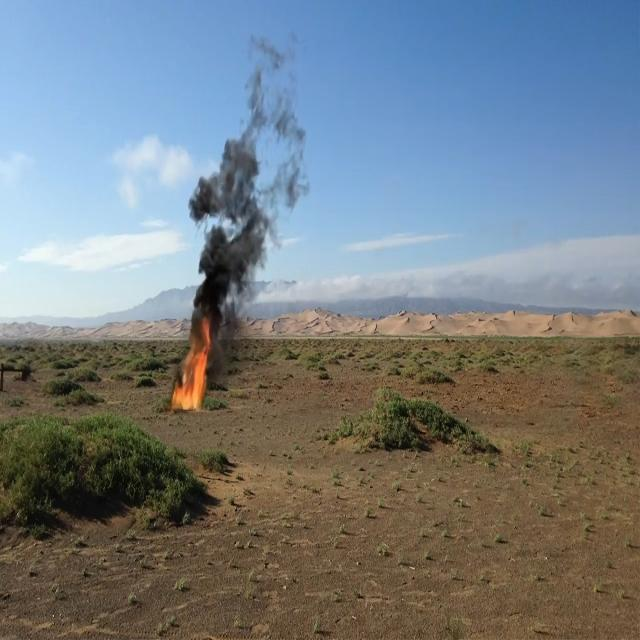Fire: (175, 329, 208, 411)
Smoke: (194, 146, 266, 313)
